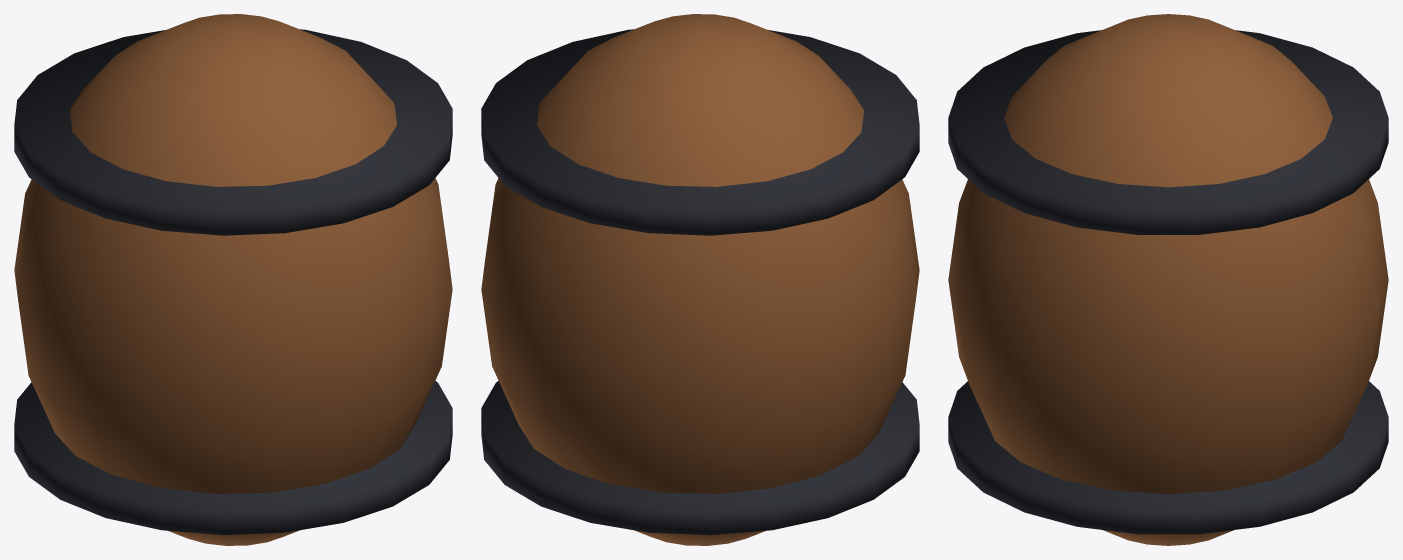
File: barrel.glb
The picture shows the model from 3 angles, left to right: view 1: azimuth 30°, elevation 25°; view 2: azimuth 150°, elevation 25°; view 3: azimuth 270°, elevation 25°; orthographic projection.
Visible parts, largest first — view 1: barrel; view 2: barrel; view 3: barrel.
Part boxes in pixels (left/top/right/bottom): barrel: left=14, top=14, right=452, bottom=545; barrel: left=481, top=14, right=919, bottom=545; barrel: left=948, top=14, right=1388, bottom=545.
Size of the model in its own units: 0.8 by 1 by 0.8.
